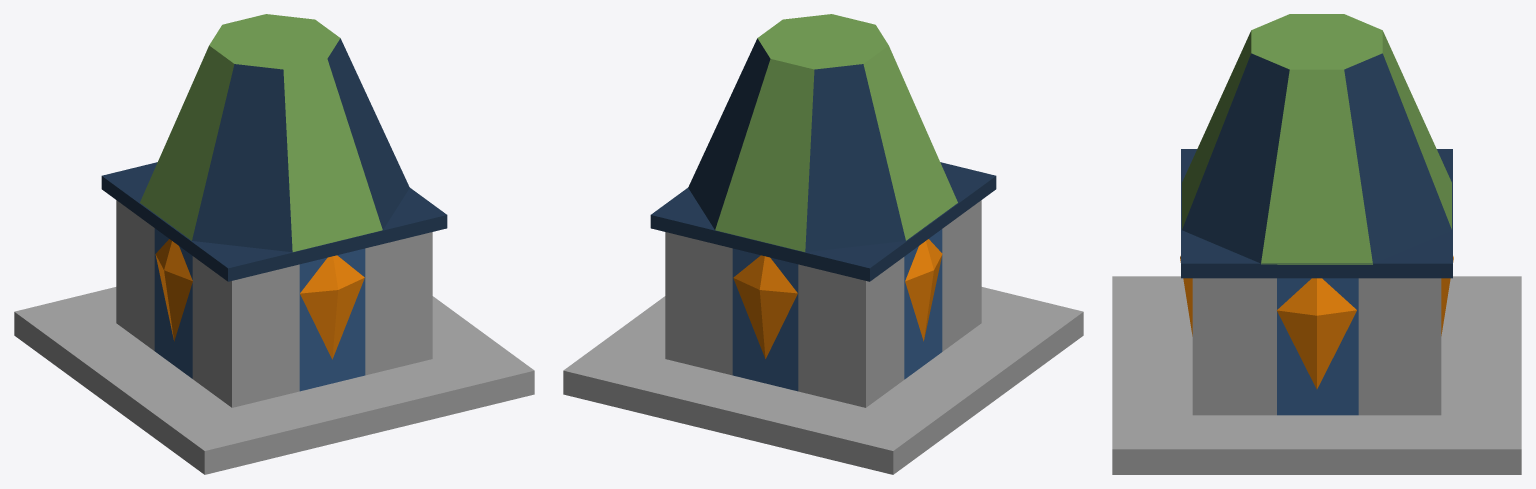
File: torre.fbx
3 renders of one model, left to right at view 1: azimuth 30°, elevation 25°; view 2: azimuth 150°, elevation 25°; view 3: azimuth 270°, elevation 25°, orthographic. The views are drawn at different scales.
Visible parts, largest first — view 1: pCube2, pCube1, Colore Torre, Tetto, Plane.001, Strisce Torre, Gemme; view 2: pCube2, pCube1, Colore Torre, Tetto, Plane.001, Strisce Torre, Gemme; view 3: pCube2, Colore Torre, Tetto, pCube1, Plane.001, Strisce Torre, Gemme.
Boxes of the visible parts, <box> form: pCube2: <box>14,287,534,474</box>; pCube1: <box>116,200,432,407</box>; Colore Torre: <box>140,14,382,251</box>; Tetto: <box>192,38,409,252</box>; Plane.001: <box>101,162,447,281</box>; Strisce Torre: <box>154,228,365,391</box>; Gemme: <box>155,239,364,359</box>; pCube2: <box>563,287,1083,474</box>; pCube1: <box>665,200,981,407</box>; Colore Torre: <box>715,14,957,251</box>; Tetto: <box>688,38,905,252</box>; Plane.001: <box>650,162,996,281</box>; Strisce Torre: <box>732,229,942,391</box>; Gemme: <box>733,239,942,358</box>; pCube2: <box>1112,276,1521,474</box>; Colore Torre: <box>1182,14,1451,264</box>; Tetto: <box>1182,53,1451,263</box>; pCube1: <box>1192,278,1441,415</box>; Plane.001: <box>1181,149,1452,278</box>; Strisce Torre: <box>1277,278,1358,415</box>; Gemme: <box>1180,256,1453,389</box>.
Bounding box in the file's own units: 255 × 239 × 255.
